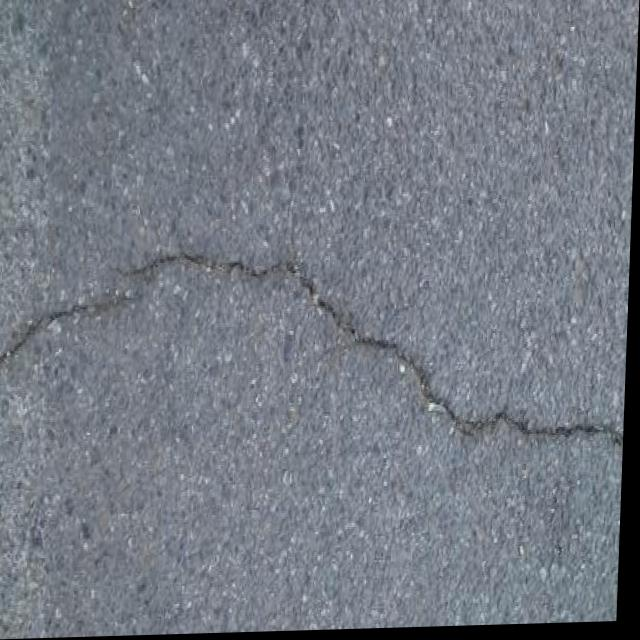Crack: (0, 238, 633, 487)
